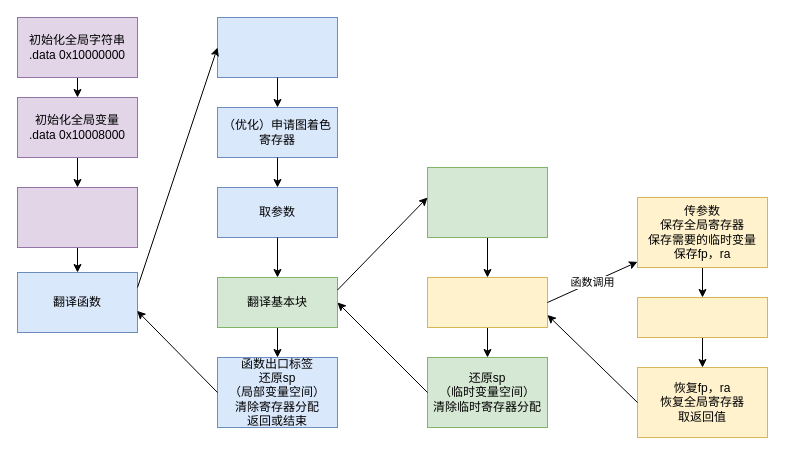
This 785x455 diagram has some shape labels left out. The shapes that lost their labels are listed below. From the top down, each one's centre as x and y in pixels, then its label:
At (277,47): "函数入口标签 计算局部变量空间 给变量分配栈上地址 压sp".
At (77,217): "设置fp = sp 跳转到main标签".
At (487,202): "基本块入口标签 计算临时变量空间 分配栈上地址 压sp".
At (487,302): "翻译单条中间代码".
At (702,317): "函数调用语句 （jal）".
